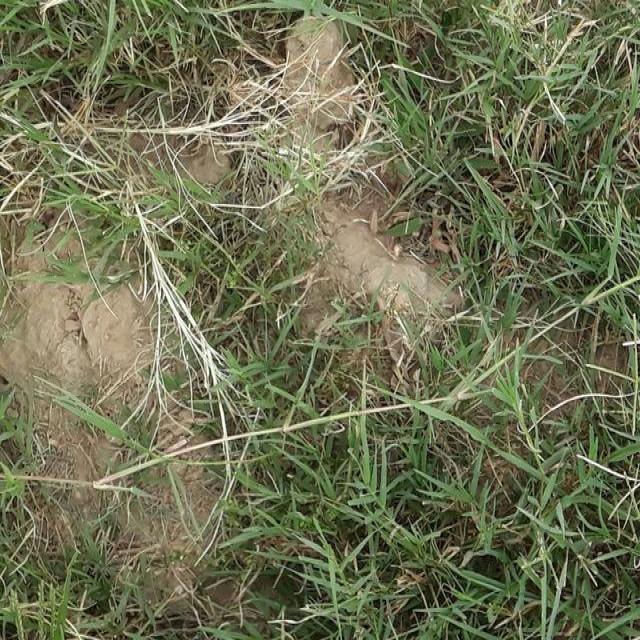weed: (295, 433, 640, 640), (64, 168, 298, 389), (450, 13, 631, 288), (16, 0, 260, 145), (0, 542, 179, 640), (212, 383, 300, 544), (394, 15, 454, 200), (3, 378, 40, 540), (334, 286, 389, 349)
